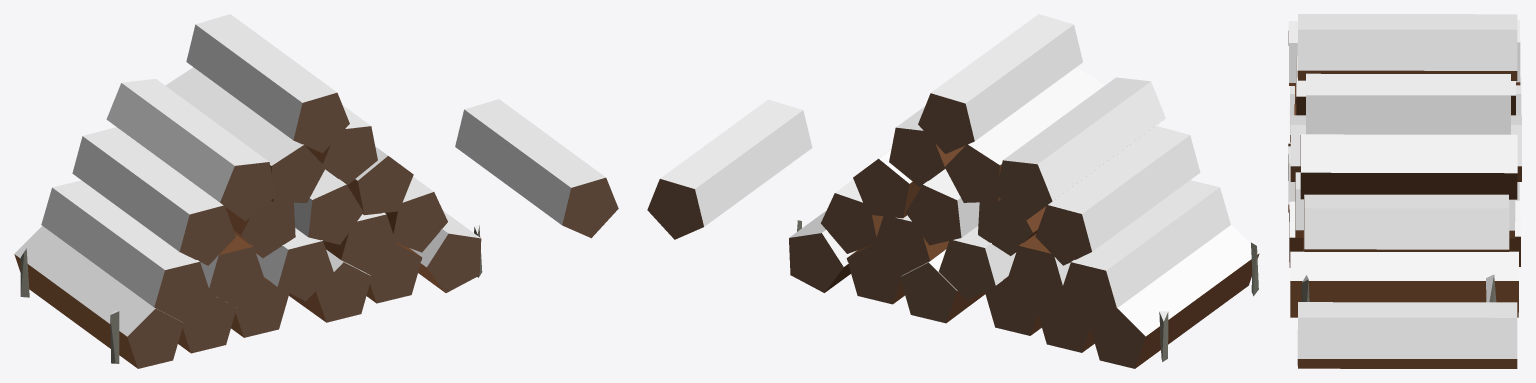
The model's file is Log_Pile.fbx.
The picture shows the model from 3 angles, left to right: view 1: azimuth 30°, elevation 25°; view 2: azimuth 150°, elevation 25°; view 3: azimuth 270°, elevation 25°; orthographic projection. The views are drawn at different scales.
Visible parts, largest first — view 1: Log_Pile, Log; view 2: Log_Pile, Log; view 3: Log_Pile, Log.
Part boxes in pixels (x1=…): Log_Pile: x1=14, y1=14, x2=482, y2=368; Log: x1=455, y1=99, x2=618, y2=238; Log_Pile: x1=789, y1=14, x2=1259, y2=368; Log: x1=647, y1=99, x2=812, y2=239; Log_Pile: x1=1288, y1=14, x2=1521, y2=317; Log: x1=1297, y1=302, x2=1517, y2=368.
Bounding box in the file's own units: 203 × 86.27 × 79.87.
